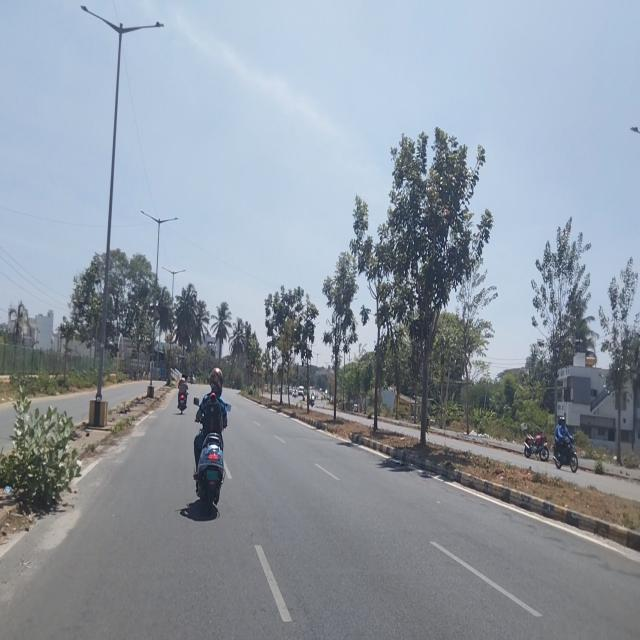bien_cam: (252, 364, 258, 374)
